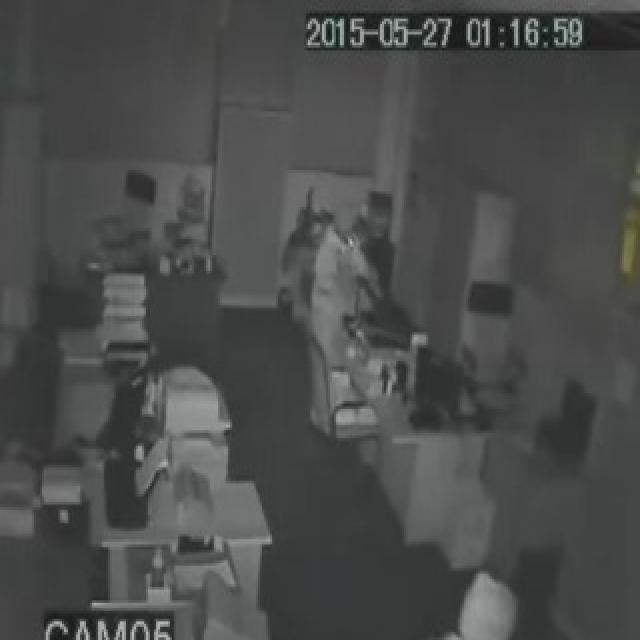thief: (312, 205, 384, 356)
